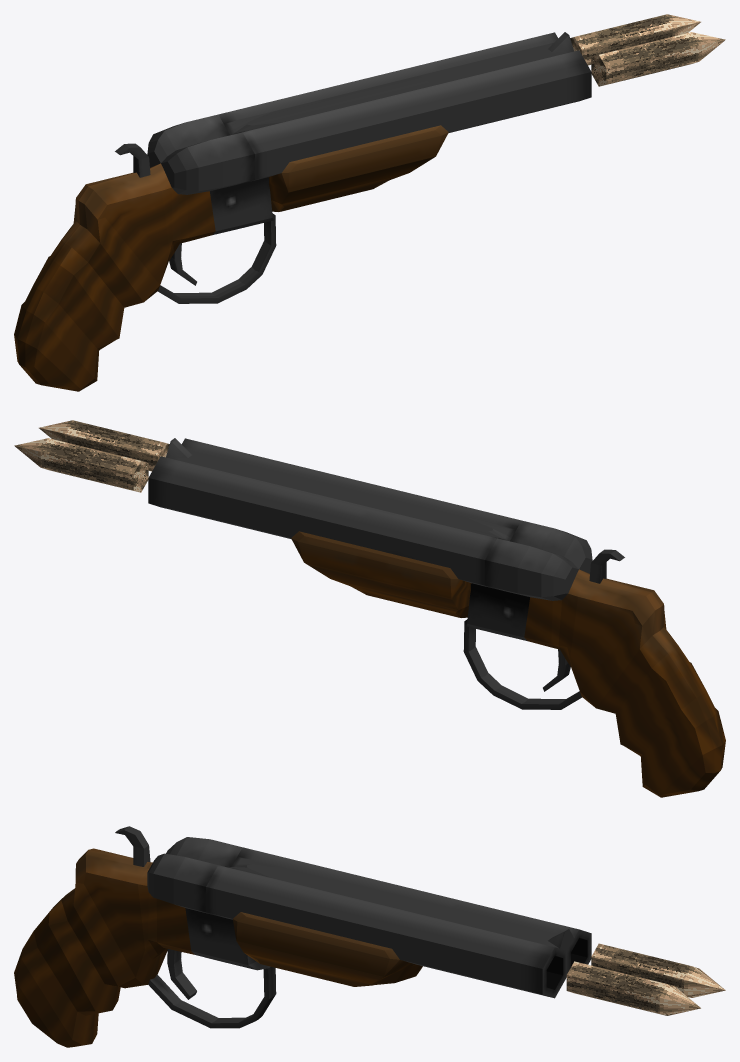
File: pistola.fbx
3 views of the same model, one above another, from view 1: azimuth 30°, elevation 25°; view 2: azimuth 150°, elevation 25°; view 3: azimuth 330°, elevation 25° (orthographic).
Parts seen in each view (by area): view 1: Mango, Barril, Cylinder, Martillo; view 2: Mango, Barril, Cylinder, Martillo; view 3: Barril, Mango, Cylinder, gatillo, Martillo.
Boxes of the visible parts, x1=… form: Mango: x1=14, y1=114, x2=276, y2=391; Barril: x1=218, y1=32, x2=591, y2=211; Cylinder: x1=570, y1=14, x2=725, y2=86; Martillo: x1=115, y1=143, x2=150, y2=177; Mango: x1=463, y1=520, x2=725, y2=797; Barril: x1=148, y1=438, x2=521, y2=617; Cylinder: x1=14, y1=420, x2=169, y2=492; Martillo: x1=589, y1=549, x2=624, y2=583; Barril: x1=206, y1=847, x2=591, y2=998; Mango: x1=14, y1=837, x2=276, y2=1047; Cylinder: x1=566, y1=943, x2=725, y2=1015; gatillo: x1=167, y1=949, x2=196, y2=999; Martillo: x1=115, y1=826, x2=150, y2=866.
Bounding box in the file's own units: 4.27 × 32.91 × 10.68.
Materials: 2 (2 with a texture image).
